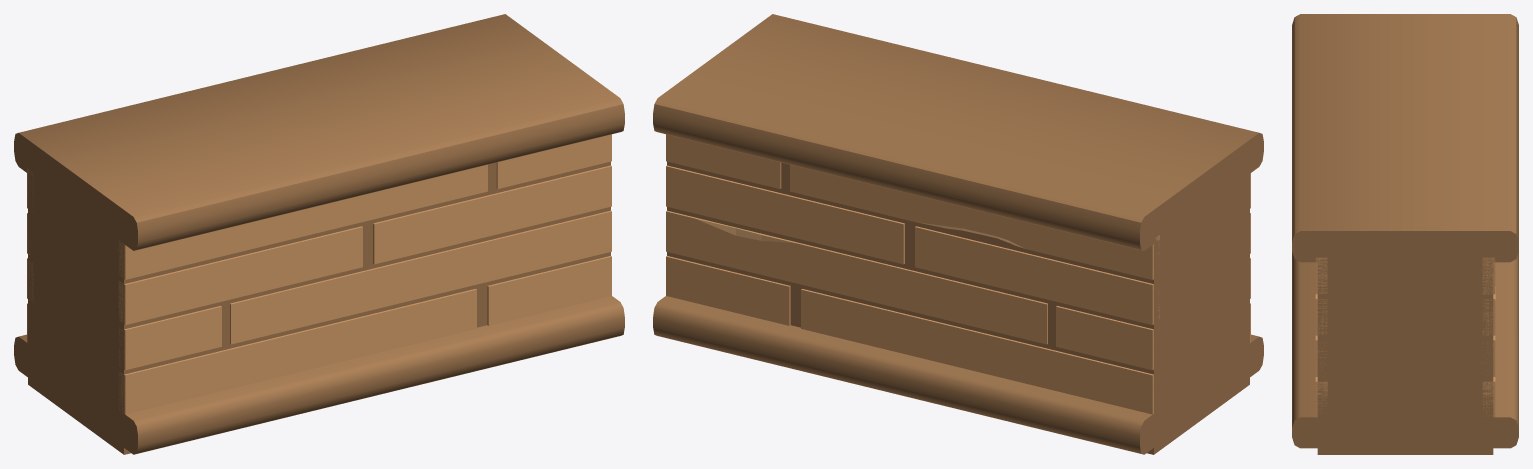
The model's file is sushi-Environment_Counter_Straight.glb.
The picture shows the model from 3 angles, left to right: view 1: azimuth 30°, elevation 25°; view 2: azimuth 150°, elevation 25°; view 3: azimuth 270°, elevation 25°; orthographic projection. The views are drawn at different scales.
Parts seen in each view (by area): view 1: Environment_Counter_Straight; view 2: Environment_Counter_Straight; view 3: Environment_Counter_Straight.
Boxes of the visible parts, x1,y1,x2,y2 form: Environment_Counter_Straight: [14, 14, 624, 454]; Environment_Counter_Straight: [653, 14, 1263, 454]; Environment_Counter_Straight: [1292, 14, 1518, 454].
Bounding box in the file's own units: 4 × 1.92 × 1.77.
Materials: 1 (1 with a texture image).
